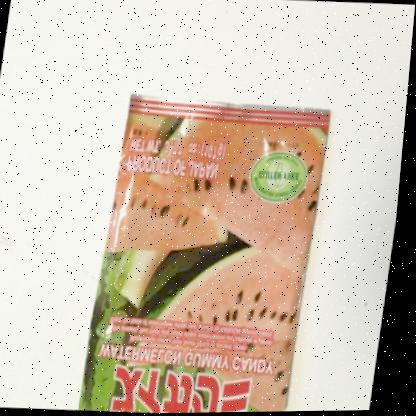Plastic: (86, 96, 333, 414)
